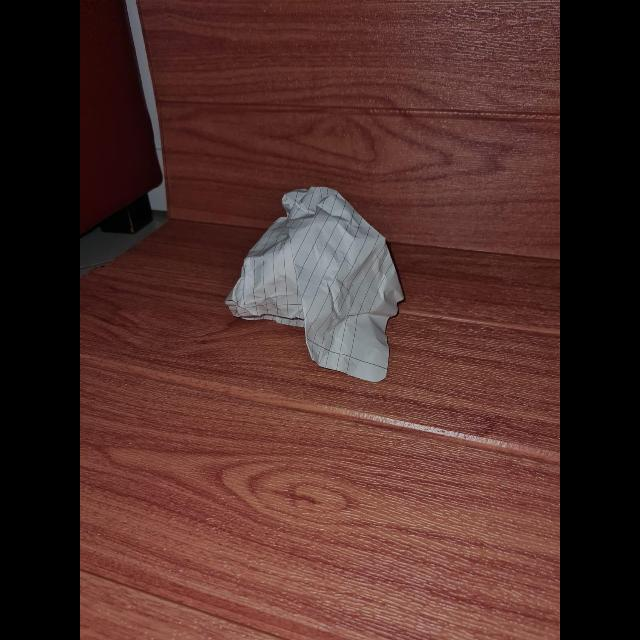scrap_paper: (225, 180, 402, 376)
